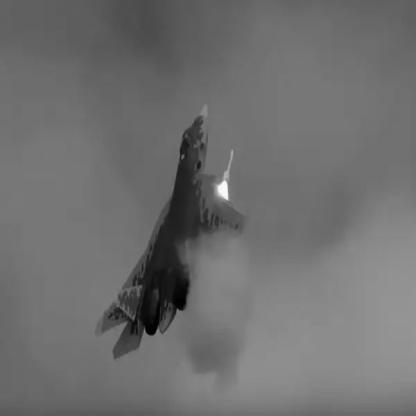Su57: (95, 103, 253, 361)
